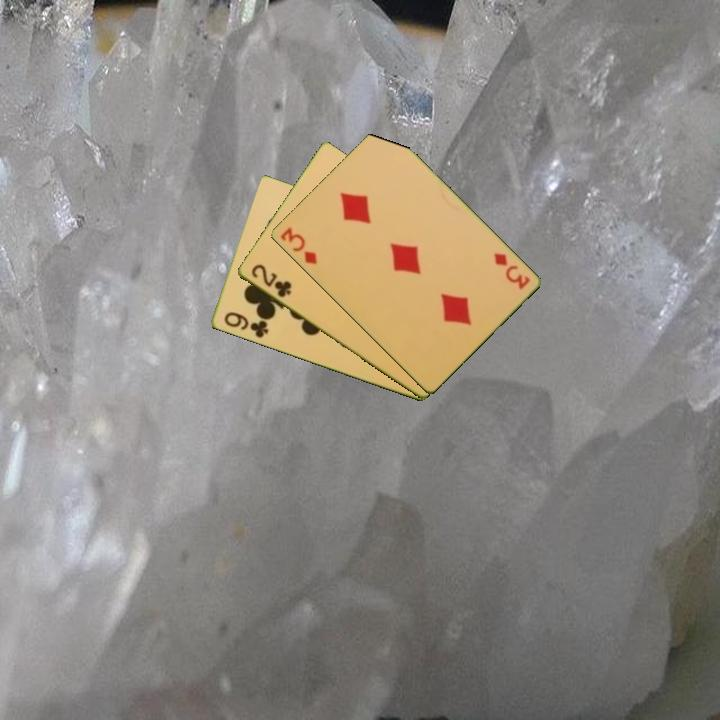2c: (247, 261, 294, 301)
3d: (276, 224, 320, 268), (490, 249, 532, 293)
9c: (220, 308, 271, 341)
